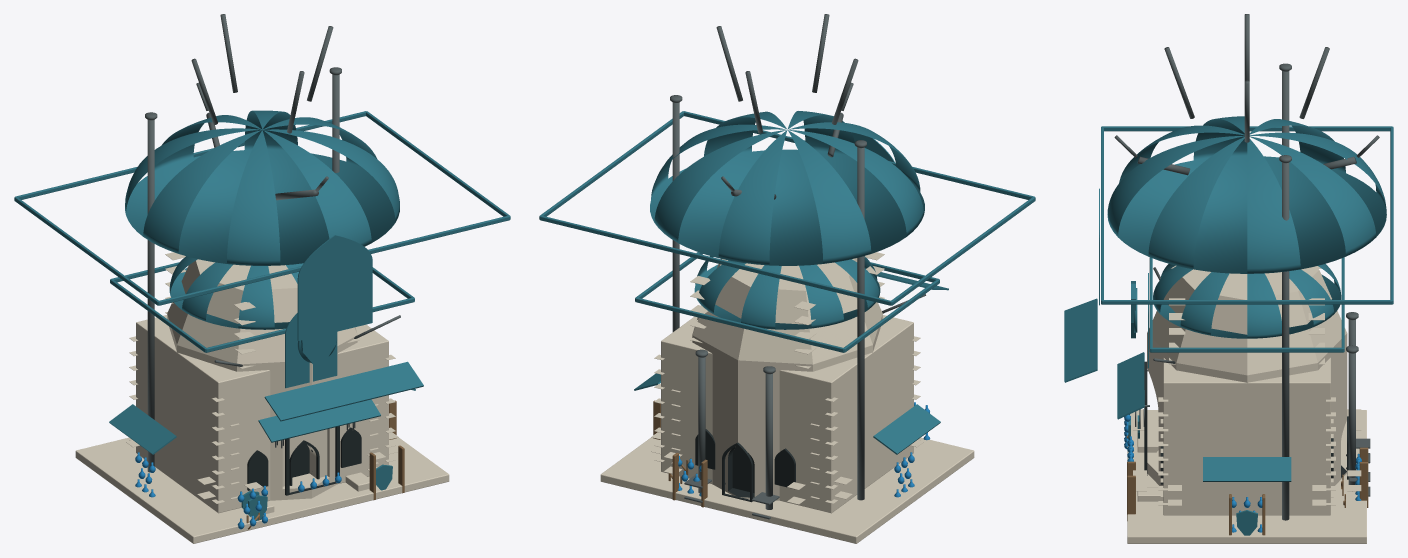
File: Catalog-17.glb
3 renders of one model, left to right at view 1: azimuth 30°, elevation 25°; view 2: azimuth 150°, elevation 25°; view 3: azimuth 270°, elevation 25°, orthographic.
Visible parts, largest first — view 1: Teal Enamel Roof (×4), Ivory Limestone (×2), Patinated Iron, Recess Shadow (×2), Blue Potion Ceramic, Walnut Light Grain; view 2: Ivory Limestone (×2), Teal Enamel Roof (×4), Patinated Iron, Recess Shadow (×2), Walnut Light Grain, Blue Potion Ceramic; view 3: Teal Enamel Roof (×4), Ivory Limestone (×3), Patinated Iron, Walnut Light Grain, Blue Potion Ceramic, Recess Shadow.
Part boxes in pixels (x1,y1,x2,y2): Teal Enamel Roof (×4): (14, 110, 510, 520); Ivory Limestone (×2): (75, 252, 449, 543); Patinated Iron: (145, 14, 400, 472); Recess Shadow (×2): (247, 426, 361, 495); Blue Potion Ceramic: (135, 452, 341, 529); Walnut Light Grain: (246, 400, 404, 529); Ivory Limestone (×2): (600, 252, 974, 543); Teal Enamel Roof (×4): (539, 111, 1035, 454); Patinated Iron: (670, 14, 925, 519); Recess Shadow (×2): (695, 429, 795, 502); Walnut Light Grain: (653, 400, 707, 507); Blue Potion Ceramic: (678, 402, 930, 497); Teal Enamel Roof (×4): (1064, 116, 1393, 535); Ivory Limestone (×3): (1127, 265, 1366, 543); Patinated Iron: (1114, 14, 1379, 520); Walnut Light Grain: (1126, 435, 1368, 535); Blue Potion Ceramic: (1124, 414, 1361, 532); Recess Shadow: (1144, 361, 1348, 479).
Size of the model in its own units: 17.77 by 20.54 by 14.13.
